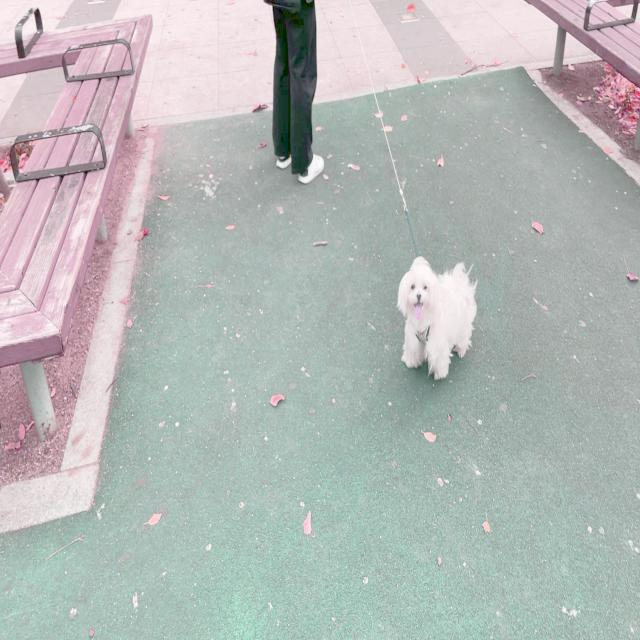Leashed_Dog: (289, 0, 476, 381)
